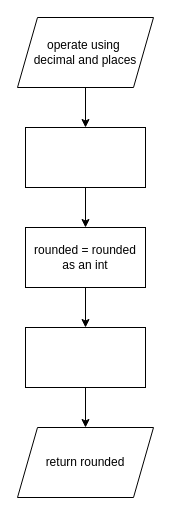
Some shapes in this 171 by 515 pixel diagram are drawn without their labels. Each missing label, with the box of its shape:
rounded = decimal * (10 ** (places)) + 0.5: (24, 126, 146, 188)
rounded = rounded / (10 ** (places)): (24, 326, 146, 388)
